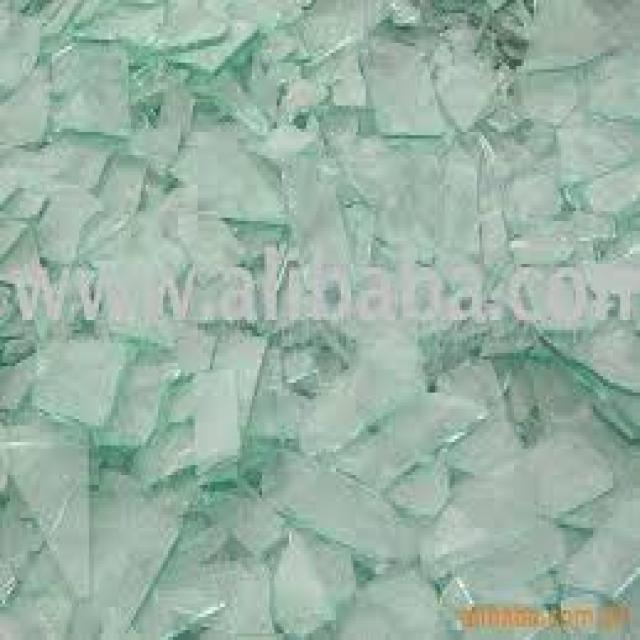glass: (0, 0, 638, 637), (74, 455, 185, 637), (260, 442, 415, 571), (499, 254, 638, 396), (418, 482, 581, 594), (0, 416, 89, 591), (309, 320, 427, 442), (467, 426, 603, 531), (334, 389, 477, 485), (403, 261, 531, 366), (91, 214, 198, 330), (151, 185, 257, 290), (97, 343, 191, 459), (175, 119, 277, 224), (401, 247, 490, 363), (265, 528, 359, 637), (44, 39, 136, 142), (514, 0, 638, 76), (497, 323, 583, 432), (272, 119, 338, 261), (178, 541, 274, 637), (3, 534, 92, 637), (30, 330, 129, 422), (200, 469, 302, 558), (321, 564, 445, 637), (388, 0, 541, 59), (546, 432, 638, 528), (153, 0, 301, 59), (363, 27, 440, 139), (564, 498, 638, 614), (430, 17, 502, 136), (440, 564, 553, 637), (539, 106, 633, 185), (509, 188, 610, 261), (447, 125, 502, 254), (277, 310, 356, 396), (359, 188, 433, 274), (121, 79, 185, 178), (287, 0, 400, 53), (0, 211, 40, 360), (176, 63, 265, 129), (247, 343, 302, 449), (3, 129, 107, 185), (133, 567, 215, 637), (217, 317, 267, 426), (96, 142, 163, 218), (442, 406, 524, 468), (571, 145, 637, 221), (193, 360, 240, 465), (322, 129, 396, 195), (574, 363, 638, 439), (25, 185, 94, 254), (0, 478, 40, 597), (499, 162, 566, 231), (0, 36, 47, 132), (307, 26, 364, 99), (578, 43, 638, 112), (400, 142, 445, 234), (166, 498, 230, 561), (561, 584, 637, 637), (415, 498, 482, 558), (161, 23, 247, 69), (67, 4, 153, 50), (512, 63, 586, 116), (255, 59, 319, 119), (430, 347, 502, 400), (388, 456, 452, 512), (247, 23, 309, 79), (346, 264, 393, 336), (0, 320, 35, 409), (0, 0, 74, 36), (593, 208, 638, 251)
